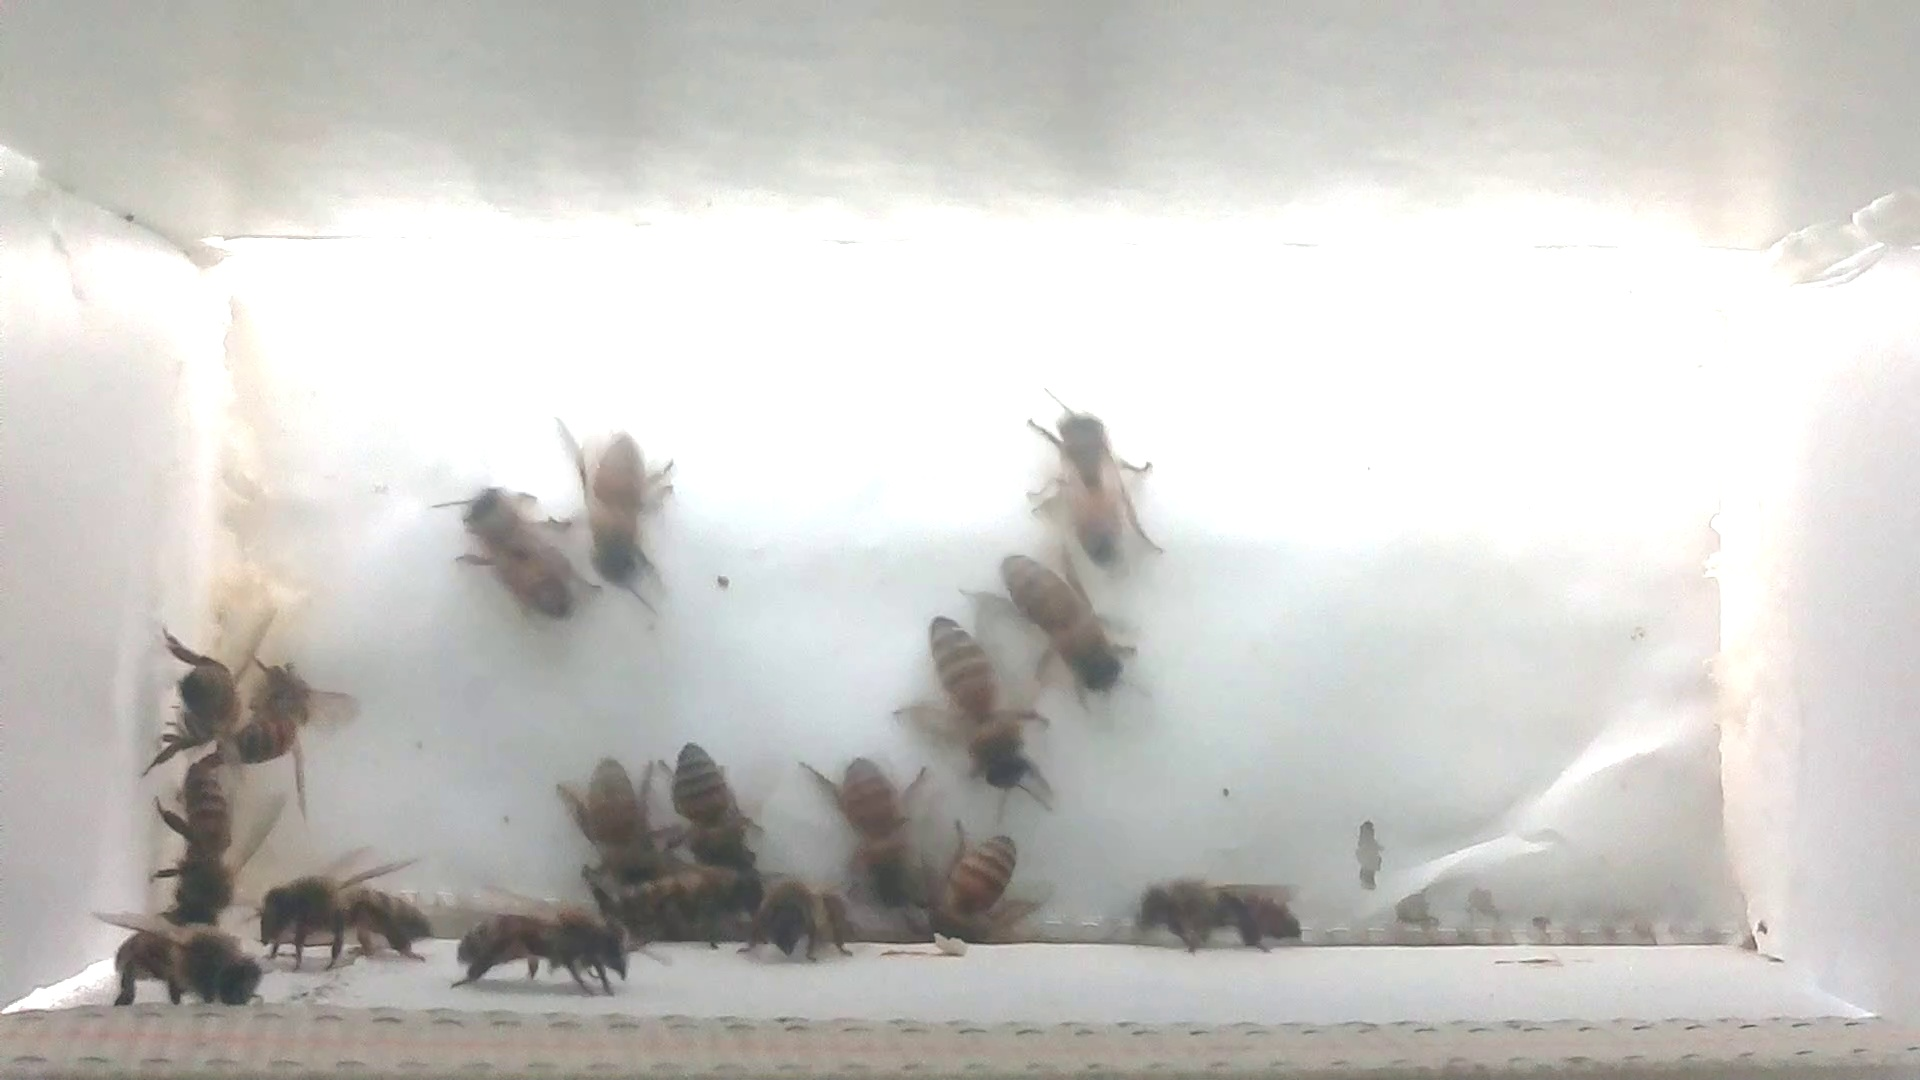bee: (415, 443, 618, 655), (541, 400, 724, 624), (886, 601, 1059, 815), (1013, 375, 1185, 585), (968, 535, 1151, 719), (124, 582, 278, 775), (216, 632, 371, 824), (244, 835, 436, 975), (142, 740, 290, 919), (1120, 853, 1321, 976), (438, 878, 636, 1000), (94, 895, 276, 1026), (803, 738, 934, 920), (646, 721, 774, 881), (909, 804, 1034, 964), (545, 741, 665, 895), (607, 853, 766, 955), (744, 860, 864, 973)
